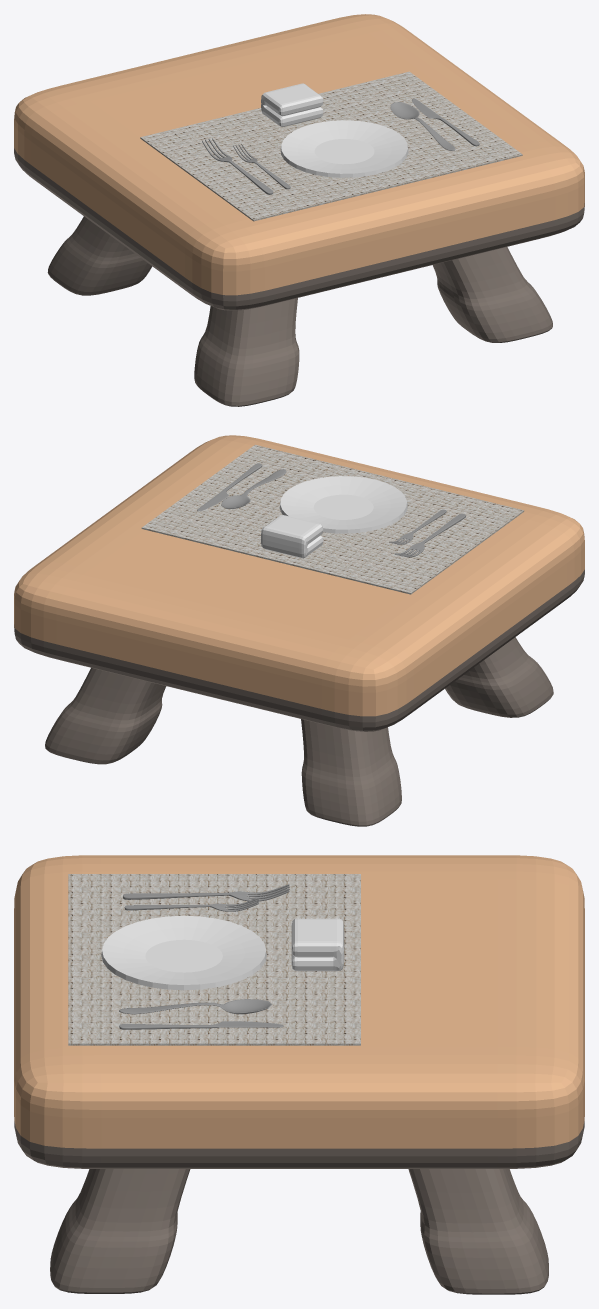
File: tabel001.fbx
The picture shows the model from 3 angles, top to bottom: view 1: azimuth 30°, elevation 25°; view 2: azimuth 150°, elevation 25°; view 3: azimuth 270°, elevation 25°; orthographic projection. The views are drawn at different scales.
Visible parts, largest first — view 1: 큐브.062, 평면.032, 원형.041, 평면.033, spoon.003, Fork.007; view 2: 큐브.062, 평면.032, 원형.041, 평면.033, spoon.003; view 3: 큐브.062, 평면.032, 원형.041, 평면.033, spoon.003, Fork.007, Knife.003, Fork.006.
Part boxes in pixels (x1,y1,x2,y2): 큐브.062: (14, 14, 584, 406); 평면.032: (140, 71, 522, 221); 원형.041: (280, 120, 408, 177); 평면.033: (261, 83, 323, 126); spoon.003: (390, 102, 455, 150); Fork.007: (202, 138, 273, 194); 큐브.062: (14, 435, 584, 826); 평면.032: (141, 444, 524, 594); 원형.041: (279, 476, 407, 533); 평면.033: (261, 515, 323, 558); spoon.003: (221, 469, 286, 508); 큐브.062: (14, 855, 584, 1294); 평면.032: (68, 874, 360, 1045); 원형.041: (101, 915, 266, 990); 평면.033: (291, 918, 344, 971); spoon.003: (119, 999, 272, 1014); Fork.007: (123, 884, 289, 901); Knife.003: (119, 1021, 283, 1029); Fork.006: (124, 898, 258, 911).
Bounding box in the file's own units: 316 × 159 × 316.
